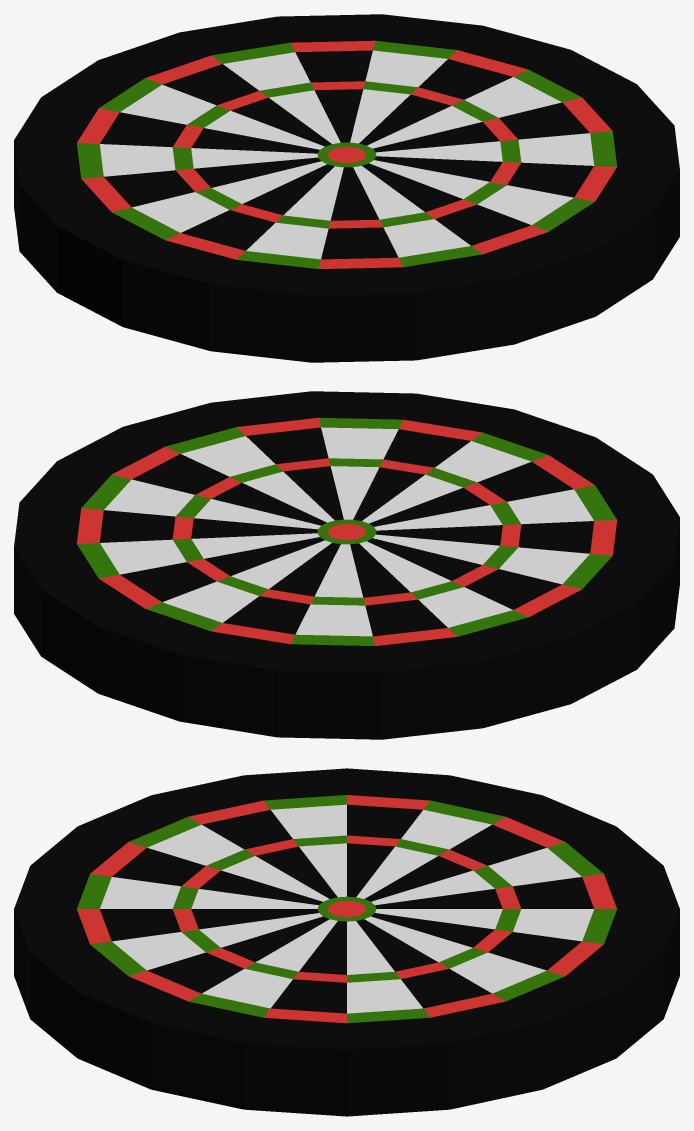
The model's file is darts.gltf.
3 views of the same model, one above another, from view 1: azimuth 30°, elevation 25°; view 2: azimuth 150°, elevation 25°; view 3: azimuth 270°, elevation 25° (orthographic).
Visible parts, largest first — view 1: Cylinder; view 2: Cylinder; view 3: Cylinder.
Boxes of the visible parts, x1,y1,x2,y2 form: Cylinder: (14, 14, 679, 362); Cylinder: (14, 391, 679, 739); Cylinder: (14, 768, 679, 1116).
Bounding box in the file's own units: 2 × 0.221 × 2.
